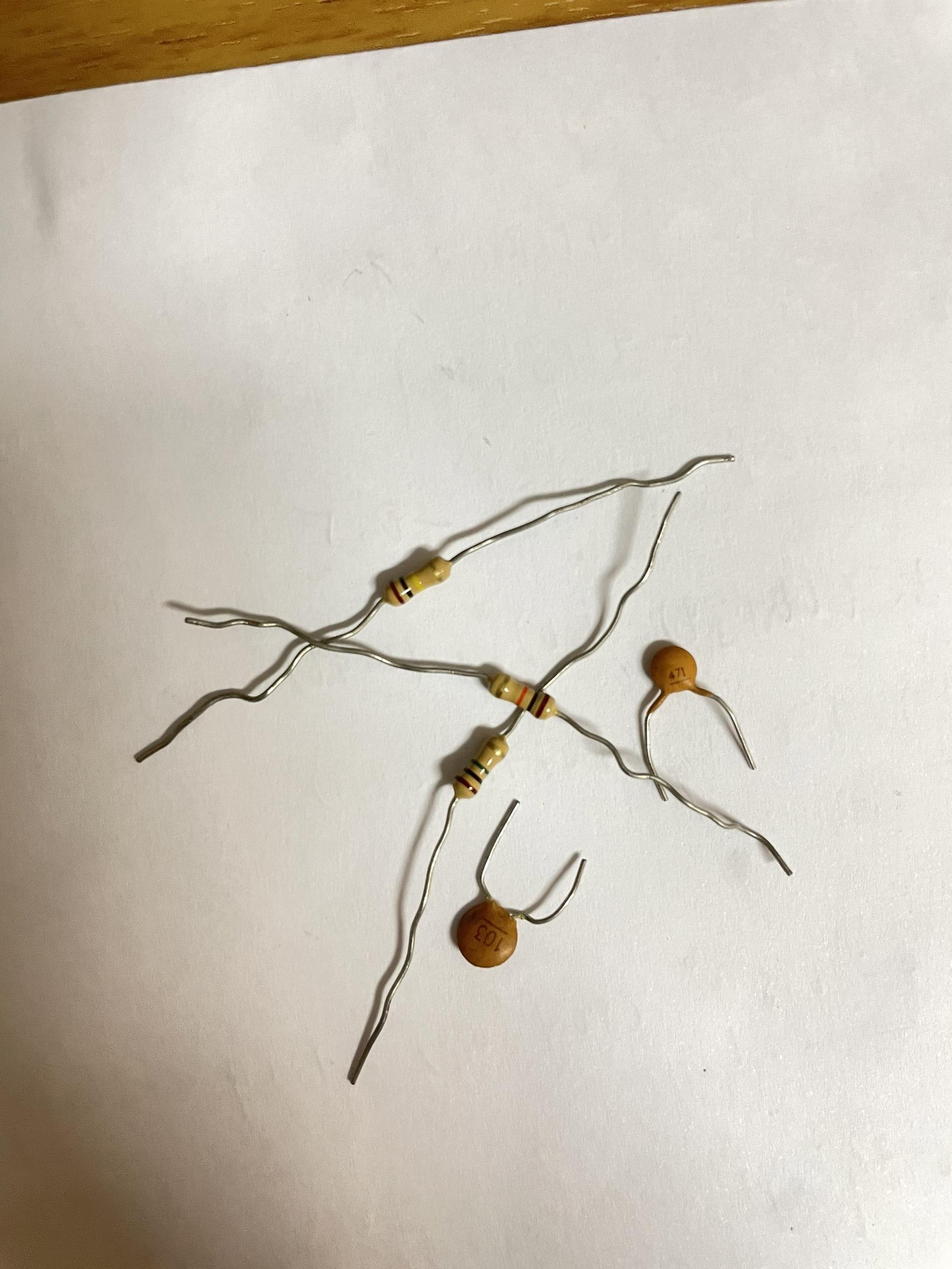resistor: (431, 719, 506, 789), (376, 540, 444, 601), (487, 671, 562, 716)
